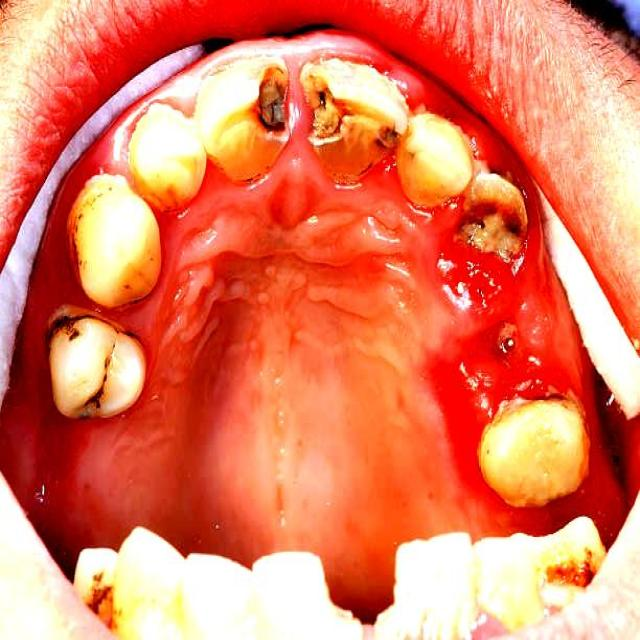caries: (300, 55, 401, 176), (462, 168, 529, 262), (232, 55, 294, 145), (74, 360, 124, 422)
